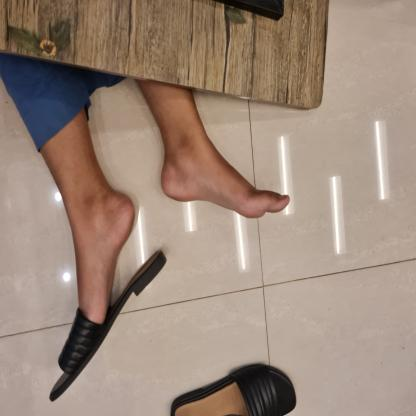leg: (32, 121, 174, 404), (138, 76, 293, 223)
